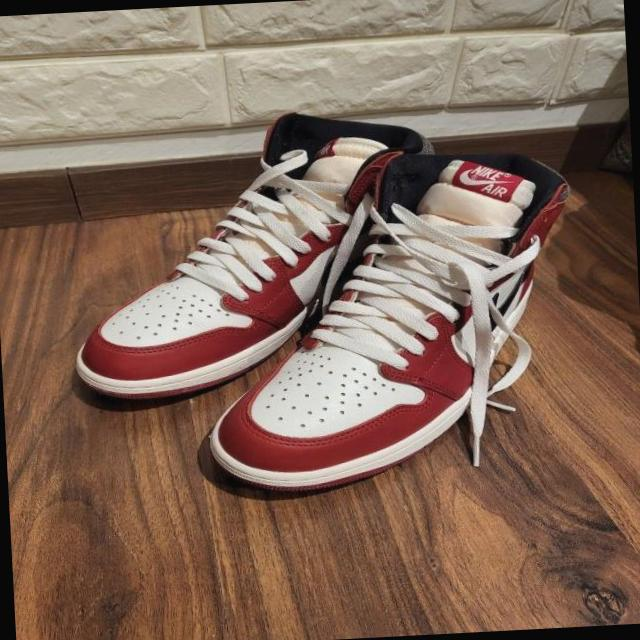nike_original_jordan: (191, 148, 588, 501), (61, 107, 442, 410)
